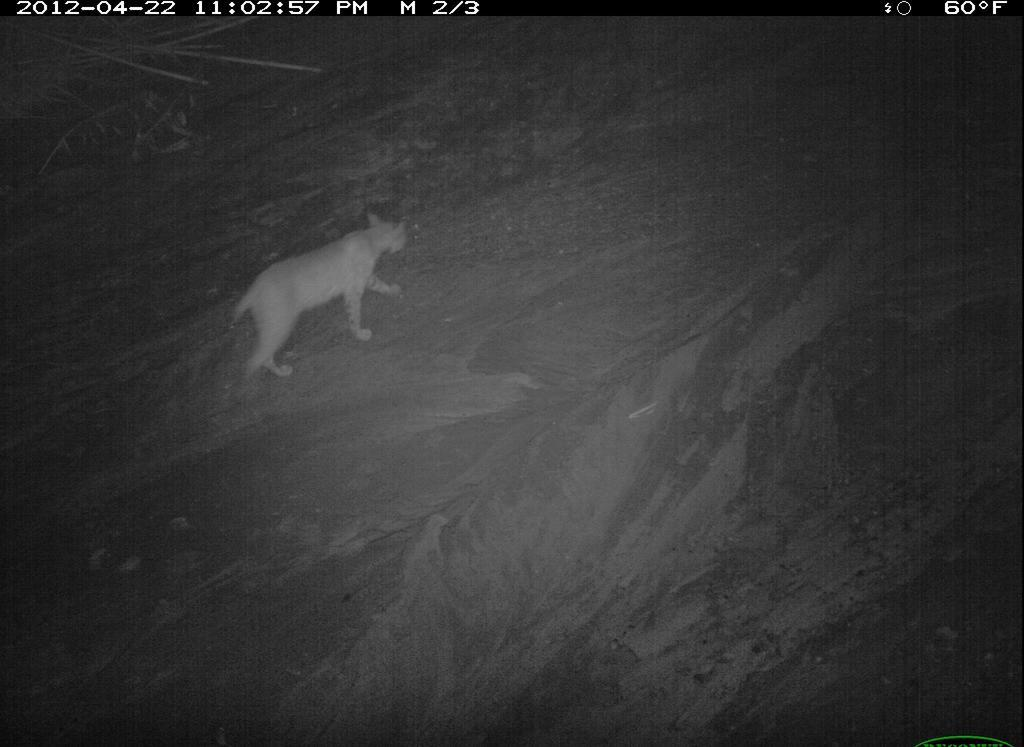bobcat: (442, 418, 832, 747)
